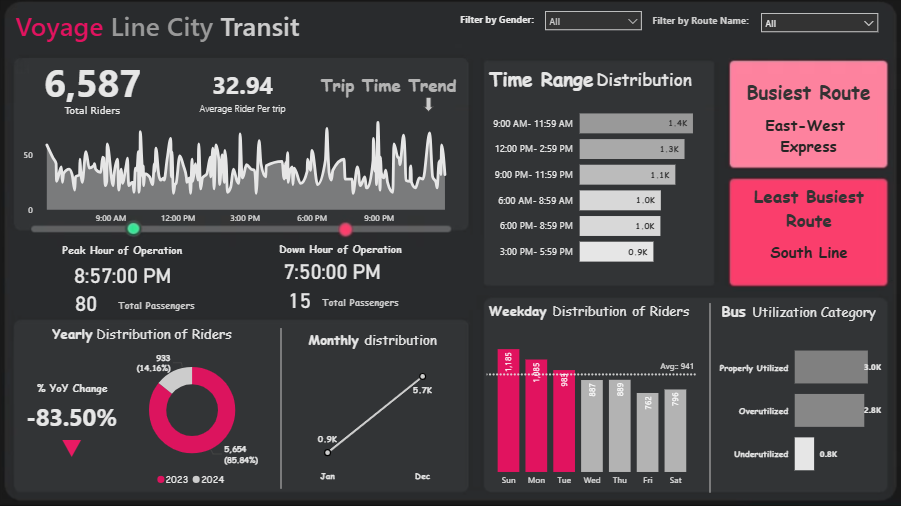

The page's visual inventory and layout, read from the dashboard file:
{"tool":"powerbi","page":{"name":"Details ","canvas":[1280,720],"ordinal":1},"visuals":[{"type":"card","title":"Busiest Route","fields":{"Values":["measures (2).Busiest Route"]},"box":[1038.9,114.8,216.9,117.6],"z":0},{"type":"card","title":"Least Busiest Route","fields":{"Values":["measures (2).Least Busiest Route"]},"box":[1040.3,265,215.4,129],"z":1000},{"type":"clusteredBarChart","fields":{"Y":["measures (2).Total Riders(passengers)"],"Category":["FactTable_ridership.Time Group"]},"box":[686,136.1,324.6,258],"z":2000},{"type":"lineChart","fields":{"Y":["measures (2).Total Riders(passengers)"],"Category":["FactTable_ridership.Time"]},"box":[29.8,161.6,629.3,168.7],"z":3000},{"type":"slicer","fields":{"Values":["Lookup_routes.RouteName"]},"box":[1070.1,11.3,185.7,42.5],"z":4000},{"type":"textbox","box":[921.3,18.4,148.8,28.3],"z":5000},{"type":"slicer","fields":{"Values":["Lookup_demographics.Gender"]},"box":[763.9,8.5,157.3,42.5],"z":6000},{"type":"textbox","box":[640.6,17,134.6,29.8],"z":7000},{"type":"card","fields":{"Values":["measures (2).Total Riders(passengers)"]},"box":[42.8,78.5,179.8,95.6],"z":8000},{"type":"card","fields":{"Values":["measures (2).V Peak Hour Of Operation"]},"box":[92.1,413.9,62.4,36.9],"z":9000},{"type":"card","fields":{"Values":["measures (2).V Down Hour Of Operation"]},"box":[399.7,409.6,52.4,36.9],"z":10000},{"type":"card","fields":{"Values":["measures (2).Peak Hour Of Operation"]},"box":[66.6,371.3,216.9,42.5],"z":11000},{"type":"card","fields":{"Values":["measures (2).Down Hour Of Operation"]},"box":[371.3,369.9,201.3,34],"z":12000},{"type":"clusteredBarChart","fields":{"Y":["measures (2).Total Riders(passengers)"],"Category":["FactTable_ridership.Bus Utilization"]},"box":[1014.8,462,240.9,239.5],"z":13000},{"type":"clusteredColumnChart","fields":{"Category":["Date.Weekday"],"Y":["measures (2).Total Riders(passengers)"]},"box":[686.4,462.3,309.7,239.7],"z":14000},{"type":"textbox","box":[686,90.7,314.6,48.2],"z":15000},{"type":"textbox","box":[686,425.2,300.5,48.2],"z":16000},{"type":"textbox","box":[1010.6,423.8,245.2,49.6],"z":17000},{"type":"card","fields":{"Values":["measures (2).Avrage Rider Per trip"]},"box":[255.1,90.7,180,83.6],"z":18000},{"type":"textbox","box":[18.4,8.5,462,69.4],"z":19000},{"type":"textbox","box":[58.1,341.6,233.9,29.8],"z":20000},{"type":"textbox","box":[367.1,340.2,233.9,29.8],"z":21000},{"type":"textbox","box":[154.5,420.9,137.5,29.8],"z":22000},{"type":"textbox","box":[452.1,416.7,120.5,29.8],"z":23000},{"type":"shape","box":[1000.6,432.3,14.2,269.3],"z":24000},{"type":"shape","box":[392.6,467.7,14.2,228.2],"z":25000},{"type":"card","fields":{"Values":["measures (2).YoY change"]},"box":[30,566.5,145.6,54.2],"z":26000},{"type":"card","fields":{"Values":["measures (2).YoY check"]},"box":[48.5,609.3,108.5,57.1],"z":27000},{"type":"textbox","box":[48.5,536.5,111.3,30],"z":28000},{"type":"donutChart","fields":{"Category":["Date.Year"],"Y":["measures (2).Total Riders(passengers)"]},"box":[147,496.6,252.6,205.5],"z":29000},{"type":"lineChart","fields":{"Category":["Date.Month"],"Y":["measures (2).Total Riders(passengers)"]},"box":[406.7,515.1,252.6,181.2],"z":30000},{"type":"textbox","box":[416.7,466.6,234,37.1],"z":31000},{"type":"textbox","box":[42.8,458.1,328.2,45.7],"z":32000},{"type":"textbox","box":[435.2,102.7,234,58.5],"z":33000},{"type":"shape","box":[600.8,139.8,15.7,21.4],"z":34000}]}

Visuals, with their boxes in screenshot pixels (x1, y1, x2, y2), scaled from the page's 1280x720 canvas onto the 901x506 screenshot:
"Busiest Route" card: [left=731, top=81, right=884, bottom=163]
"Least Busiest Route" card: [left=732, top=186, right=884, bottom=277]
clusteredBarChart - measures (2).Total Riders(passengers) x FactTable_ridership.Time Group: [left=483, top=96, right=711, bottom=277]
lineChart - measures (2).Total Riders(passengers) x FactTable_ridership.Time: [left=21, top=114, right=464, bottom=232]
slicer - Lookup_routes.RouteName: [left=753, top=8, right=884, bottom=38]
textbox: [left=649, top=13, right=753, bottom=33]
slicer - Lookup_demographics.Gender: [left=538, top=6, right=648, bottom=36]
textbox: [left=451, top=12, right=546, bottom=33]
card - measures (2).Total Riders(passengers): [left=30, top=55, right=157, bottom=122]
card - measures (2).V Peak Hour Of Operation: [left=65, top=291, right=109, bottom=317]
card - measures (2).V Down Hour Of Operation: [left=281, top=288, right=318, bottom=314]
card - measures (2).Peak Hour Of Operation: [left=47, top=261, right=200, bottom=291]
card - measures (2).Down Hour Of Operation: [left=261, top=260, right=403, bottom=284]
clusteredBarChart - measures (2).Total Riders(passengers) x FactTable_ridership.Bus Utilization: [left=714, top=325, right=884, bottom=493]
clusteredColumnChart - Date.Weekday x measures (2).Total Riders(passengers): [left=483, top=325, right=701, bottom=493]
textbox: [left=483, top=64, right=704, bottom=98]
textbox: [left=483, top=299, right=694, bottom=333]
textbox: [left=711, top=298, right=884, bottom=333]
card - measures (2).Avrage Rider Per trip: [left=180, top=64, right=306, bottom=122]
textbox: [left=13, top=6, right=338, bottom=55]
textbox: [left=41, top=240, right=206, bottom=261]
textbox: [left=258, top=239, right=423, bottom=260]
textbox: [left=109, top=296, right=206, bottom=317]
textbox: [left=318, top=293, right=403, bottom=314]
shape: [left=704, top=304, right=714, bottom=493]
shape: [left=276, top=329, right=286, bottom=489]
card - measures (2).YoY change: [left=21, top=398, right=124, bottom=436]
card - measures (2).YoY check: [left=34, top=428, right=111, bottom=468]
textbox: [left=34, top=377, right=112, bottom=398]
donutChart - Date.Year x measures (2).Total Riders(passengers): [left=103, top=349, right=281, bottom=493]
lineChart - Date.Month x measures (2).Total Riders(passengers): [left=286, top=362, right=464, bottom=489]
textbox: [left=293, top=328, right=458, bottom=354]
textbox: [left=30, top=322, right=261, bottom=354]
textbox: [left=306, top=72, right=471, bottom=113]
shape: [left=423, top=98, right=434, bottom=113]
